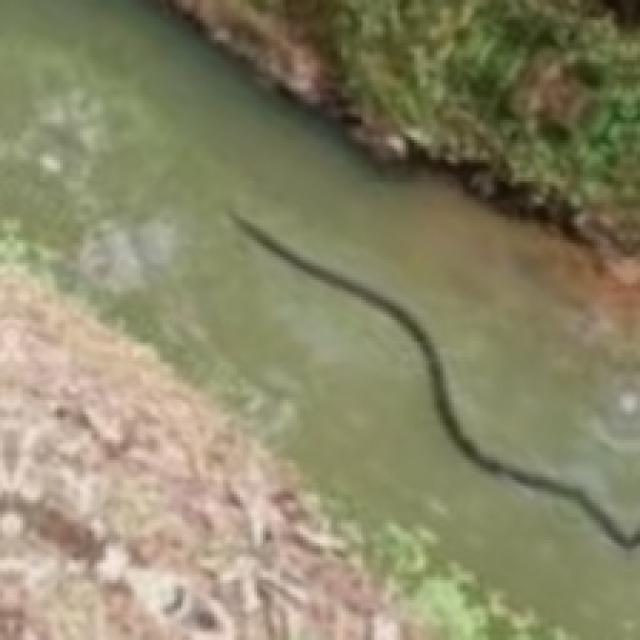king cobra: (229, 211, 637, 546)
